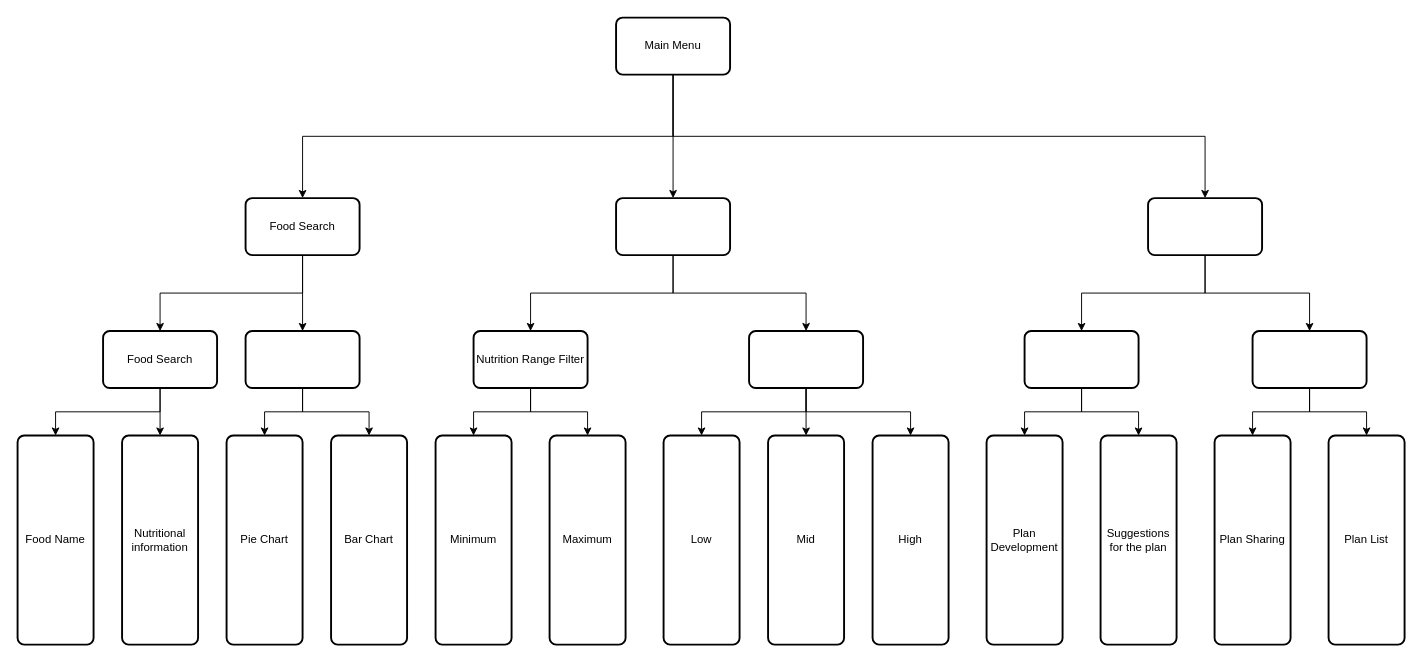
This 1421x661 diagram has some shape labels left out. Each missing label, with the centre of its shape:
"Nutrition Breakdown" goes at point (302, 359).
"Nutrition Filter" goes at point (673, 226).
"Nutrition Level Filter" goes at point (806, 359).
"Nutrition Plan Development" goes at point (1081, 359).
"Nutrition plan development and sharing" goes at point (1205, 226).
"Nutrition Plan Sharing" goes at point (1309, 359).
